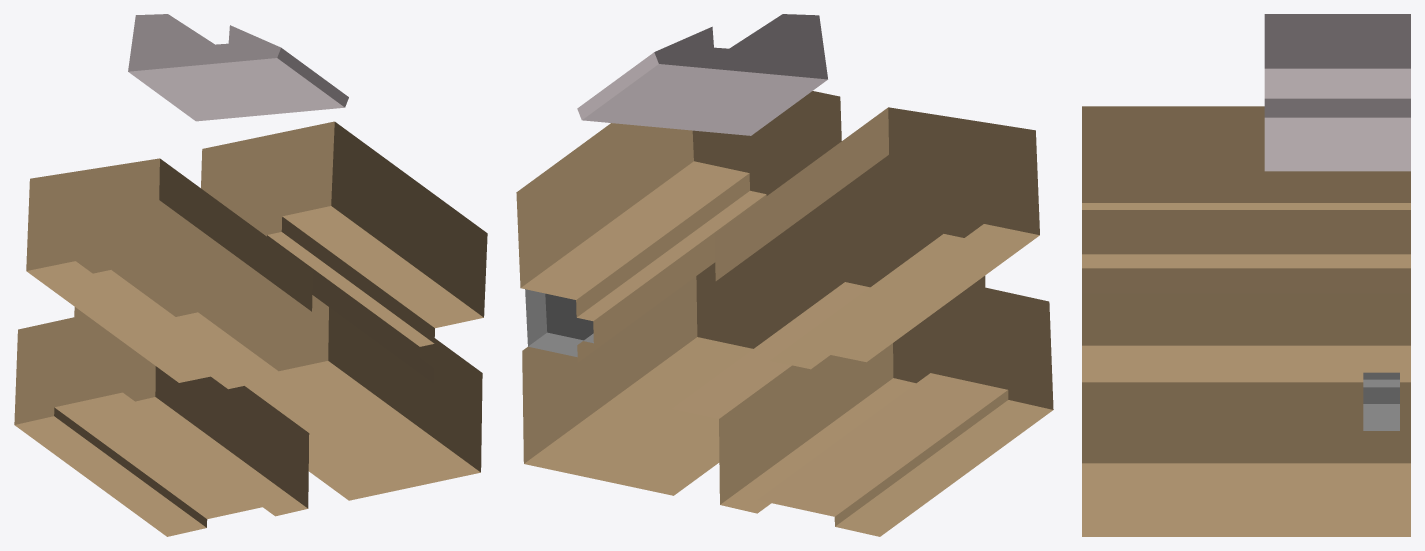
3 renders of one model, left to right at view 1: azimuth 30°, elevation 25°; view 2: azimuth 150°, elevation 25°; view 3: azimuth 270°, elevation 25°, orthographic. The views are drawn at different scales.
Parts seen in each view (by area): view 1: 0_1_0_0_1_2_3_0_1; view 2: 0_1_0_0_1_2_3_0_1; view 3: 0_1_0_0_1_2_3_0_1.
Boxes of the visible parts, x1,y1,x2,y2 form: 0_1_0_0_1_2_3_0_1: (14, 14, 487, 536); 0_1_0_0_1_2_3_0_1: (516, 14, 1053, 536); 0_1_0_0_1_2_3_0_1: (1082, 14, 1410, 536).
Bounding box in the file's own units: 32.67 × 38.25 × 27.
